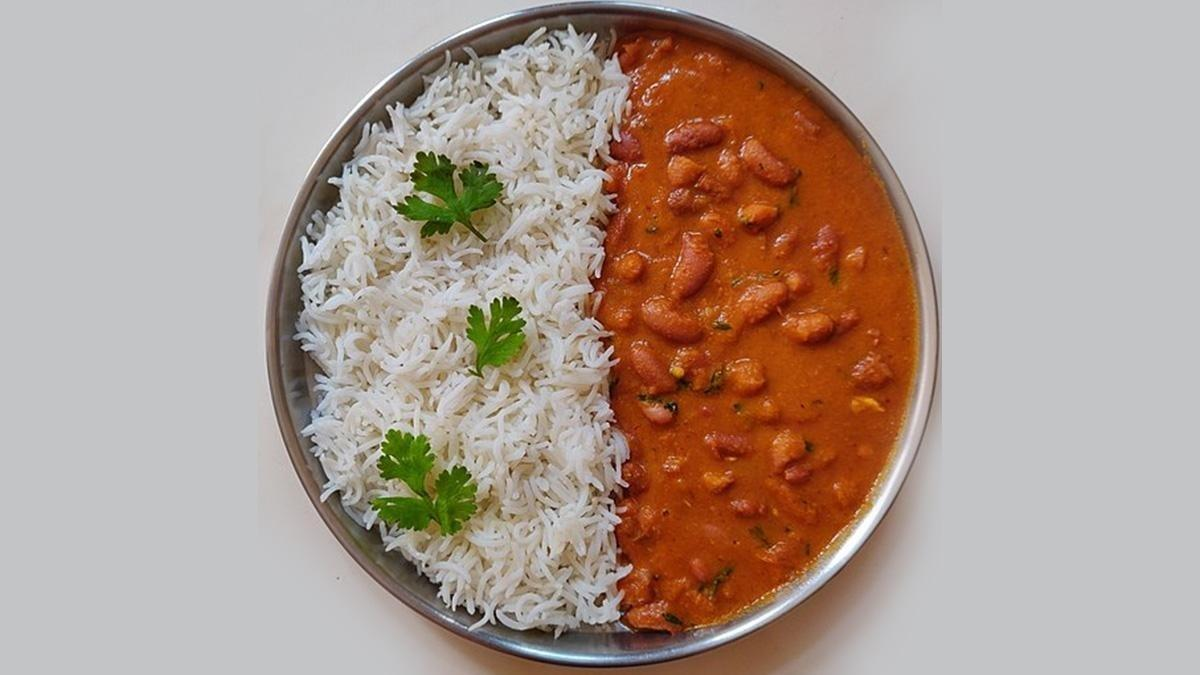rajma: (623, 8, 955, 647)
rice: (308, 35, 603, 625)
